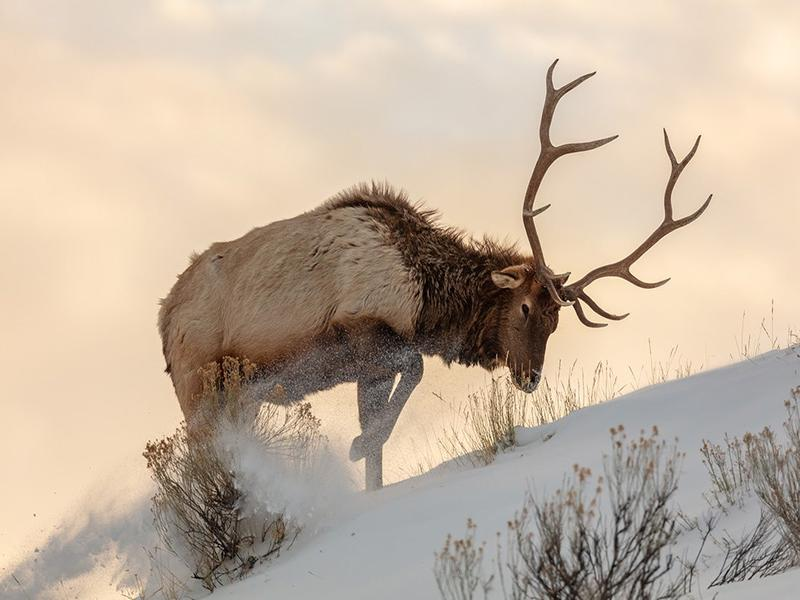elk: (157, 190, 617, 487)
